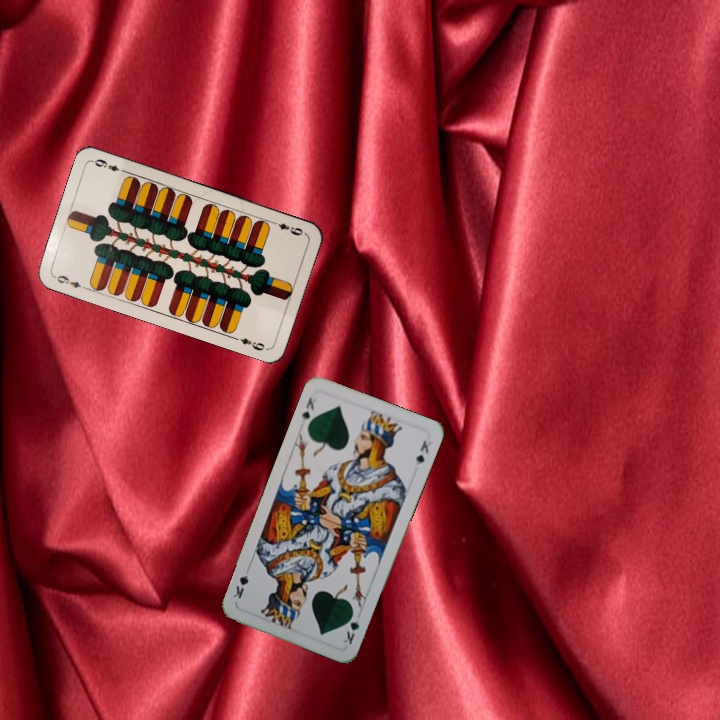E9: (268, 217, 307, 238), (51, 271, 90, 292)
GK: (338, 607, 362, 647), (297, 393, 317, 426)
